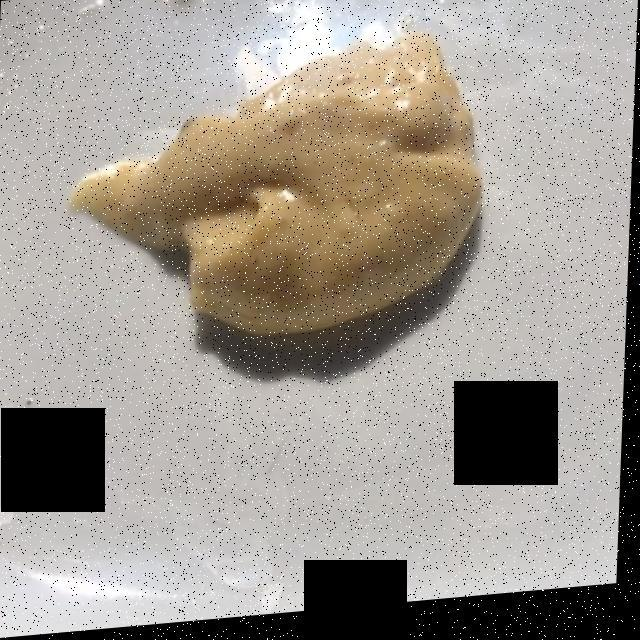mayonnaise: (78, 37, 479, 338)
